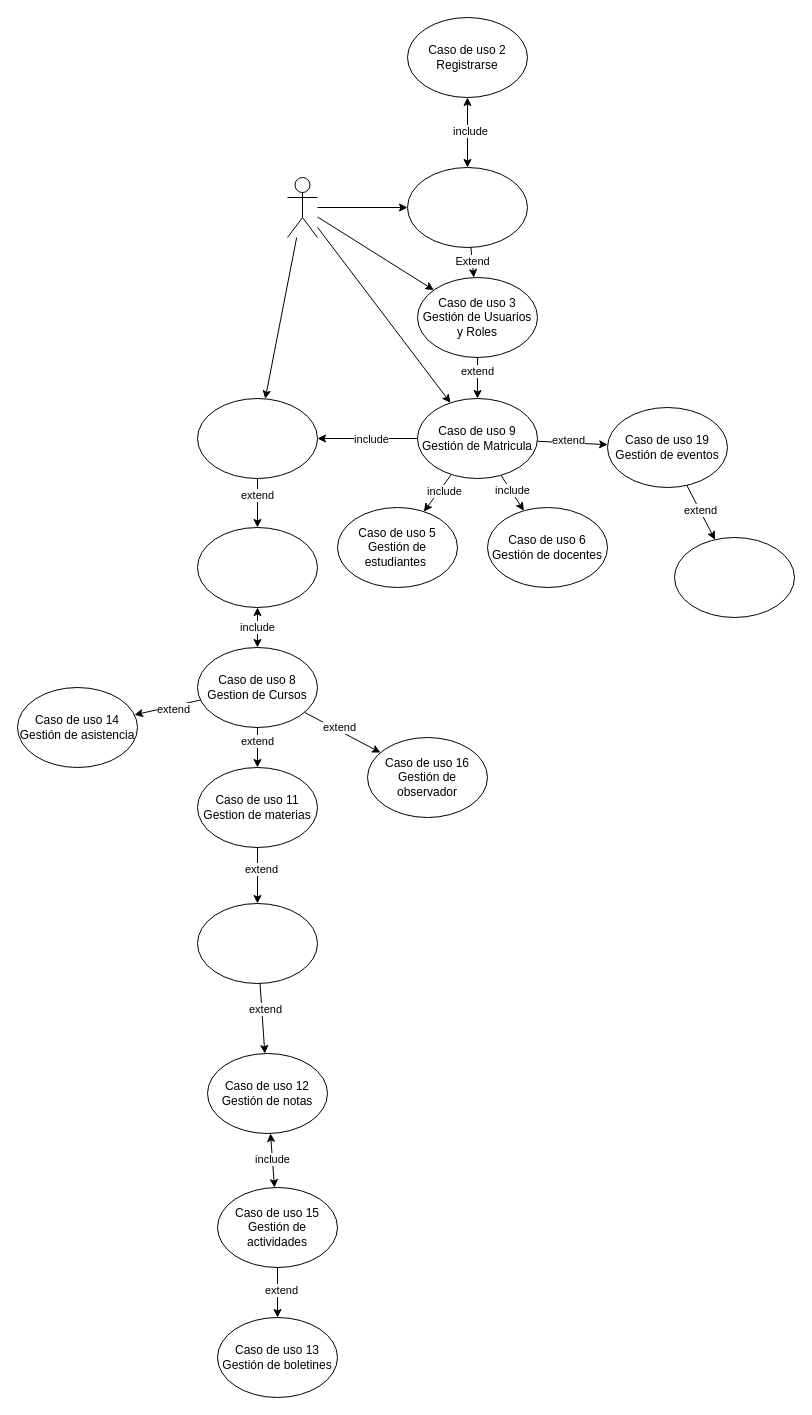
This 812x1415 diagram has some shape labels left out. Here are the shapes that lost their labels. From the top down, the centre of each, then its label:
At point (302, 207): "Admin".
At point (467, 207): "Caso de uso 1 Iniciar Sesion".
At point (257, 438): "Caso de uso 4 Gestion de jornadas".
At point (257, 567): "Caso de uso 7 Gestion de Grados".
At point (734, 577): "Caso de uso 20 Gestión de noticias".
At point (257, 943): "Caso de uso 12 Gestión de logros".
